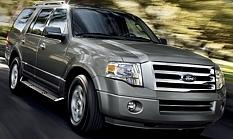front_view: (98, 48, 223, 129)
headlight: (102, 53, 154, 92)
side_glass: (30, 11, 79, 45)
